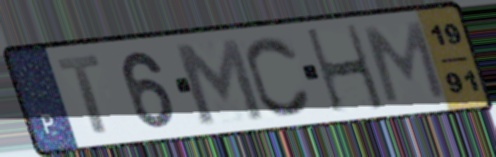6: (118, 48, 178, 131)
C: (243, 33, 315, 119)
H: (302, 22, 389, 116)
M: (168, 35, 269, 127), (359, 19, 449, 106)
T: (54, 52, 111, 137)
